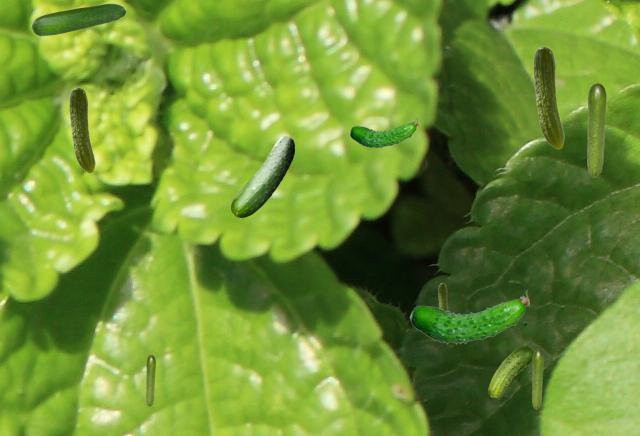cucumber: (409, 290, 528, 343), (231, 136, 293, 216), (533, 46, 563, 148), (31, 3, 125, 35), (488, 346, 533, 396), (69, 87, 94, 172), (349, 117, 417, 147), (587, 83, 605, 176), (532, 349, 542, 408), (146, 355, 154, 405), (438, 283, 448, 309)
